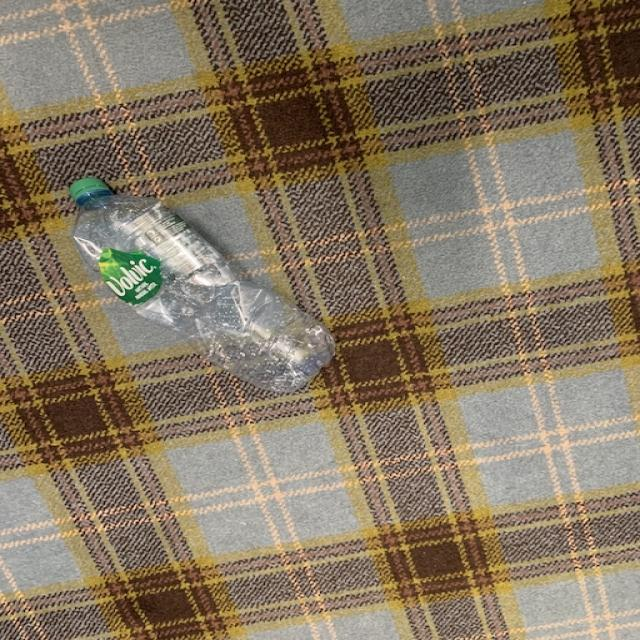Waste: (69, 177, 335, 392)
